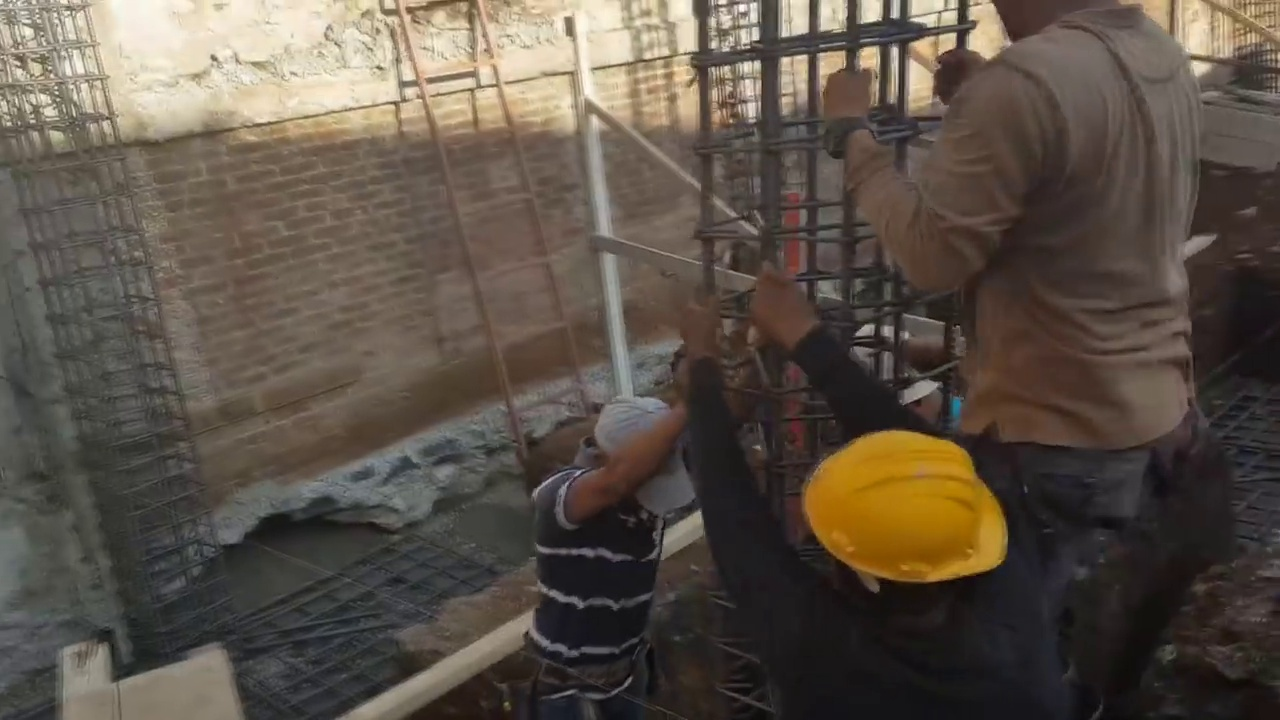helmet: (805, 423, 999, 592)
helmet-off: (572, 400, 686, 523)
person: (820, 0, 1210, 622), (695, 263, 1074, 716), (515, 397, 691, 714)
